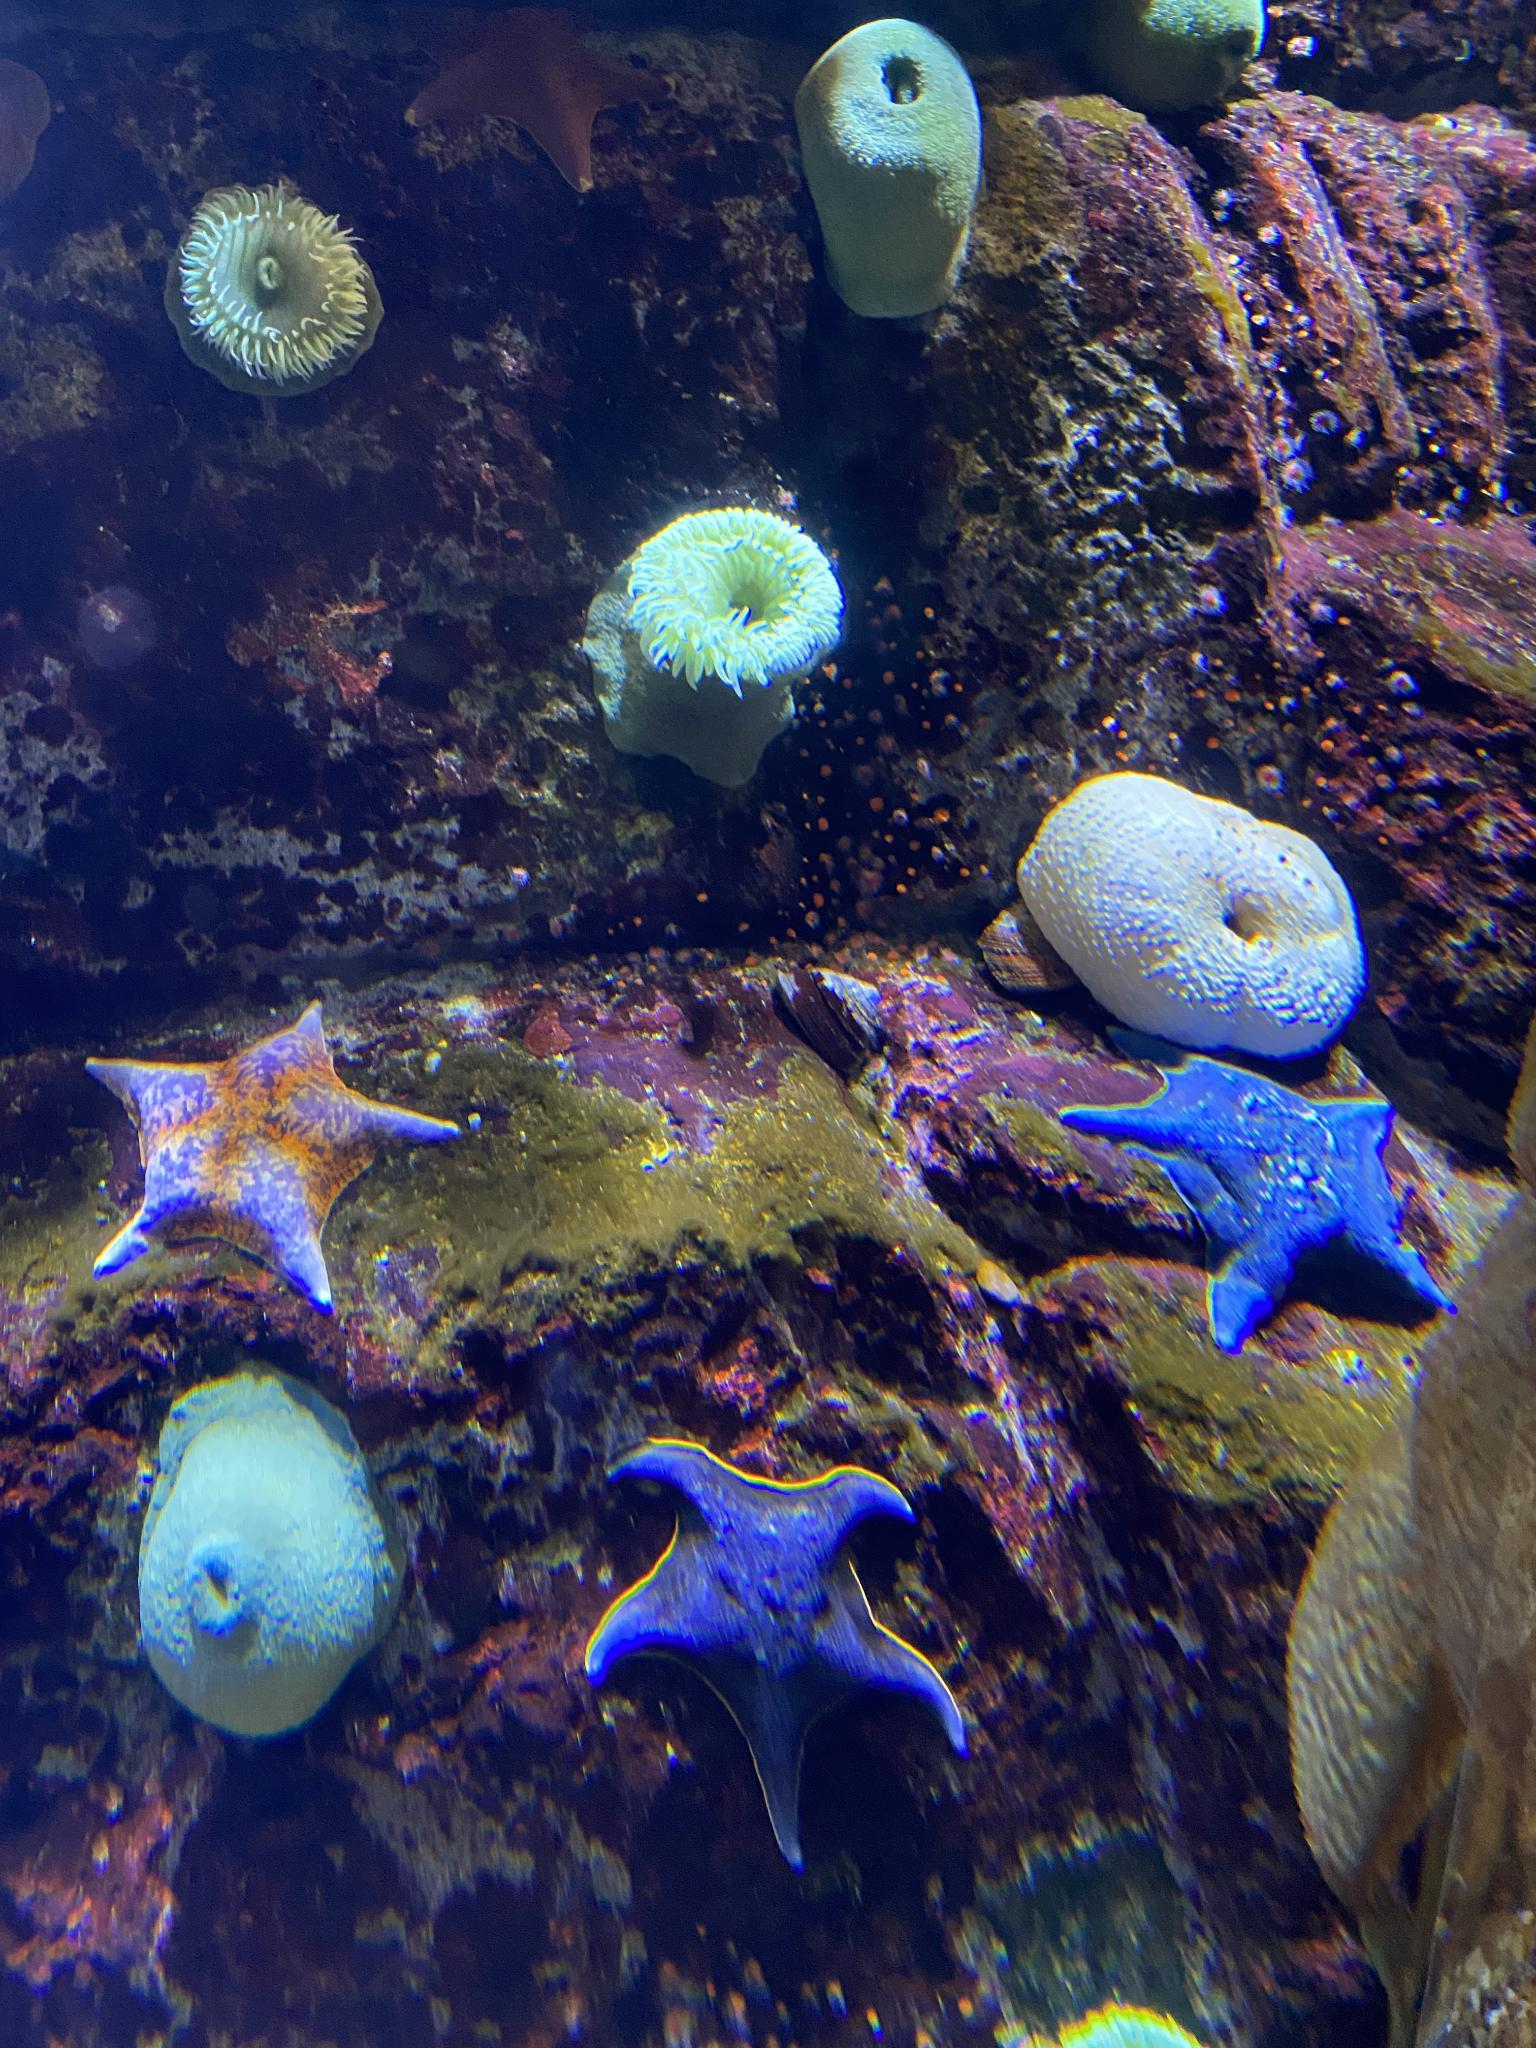starfish: (608, 1450, 983, 1814), (1062, 1051, 1446, 1329), (97, 1030, 445, 1300)
